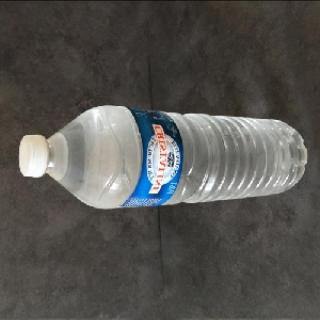Anorganik: (15, 100, 312, 210)
